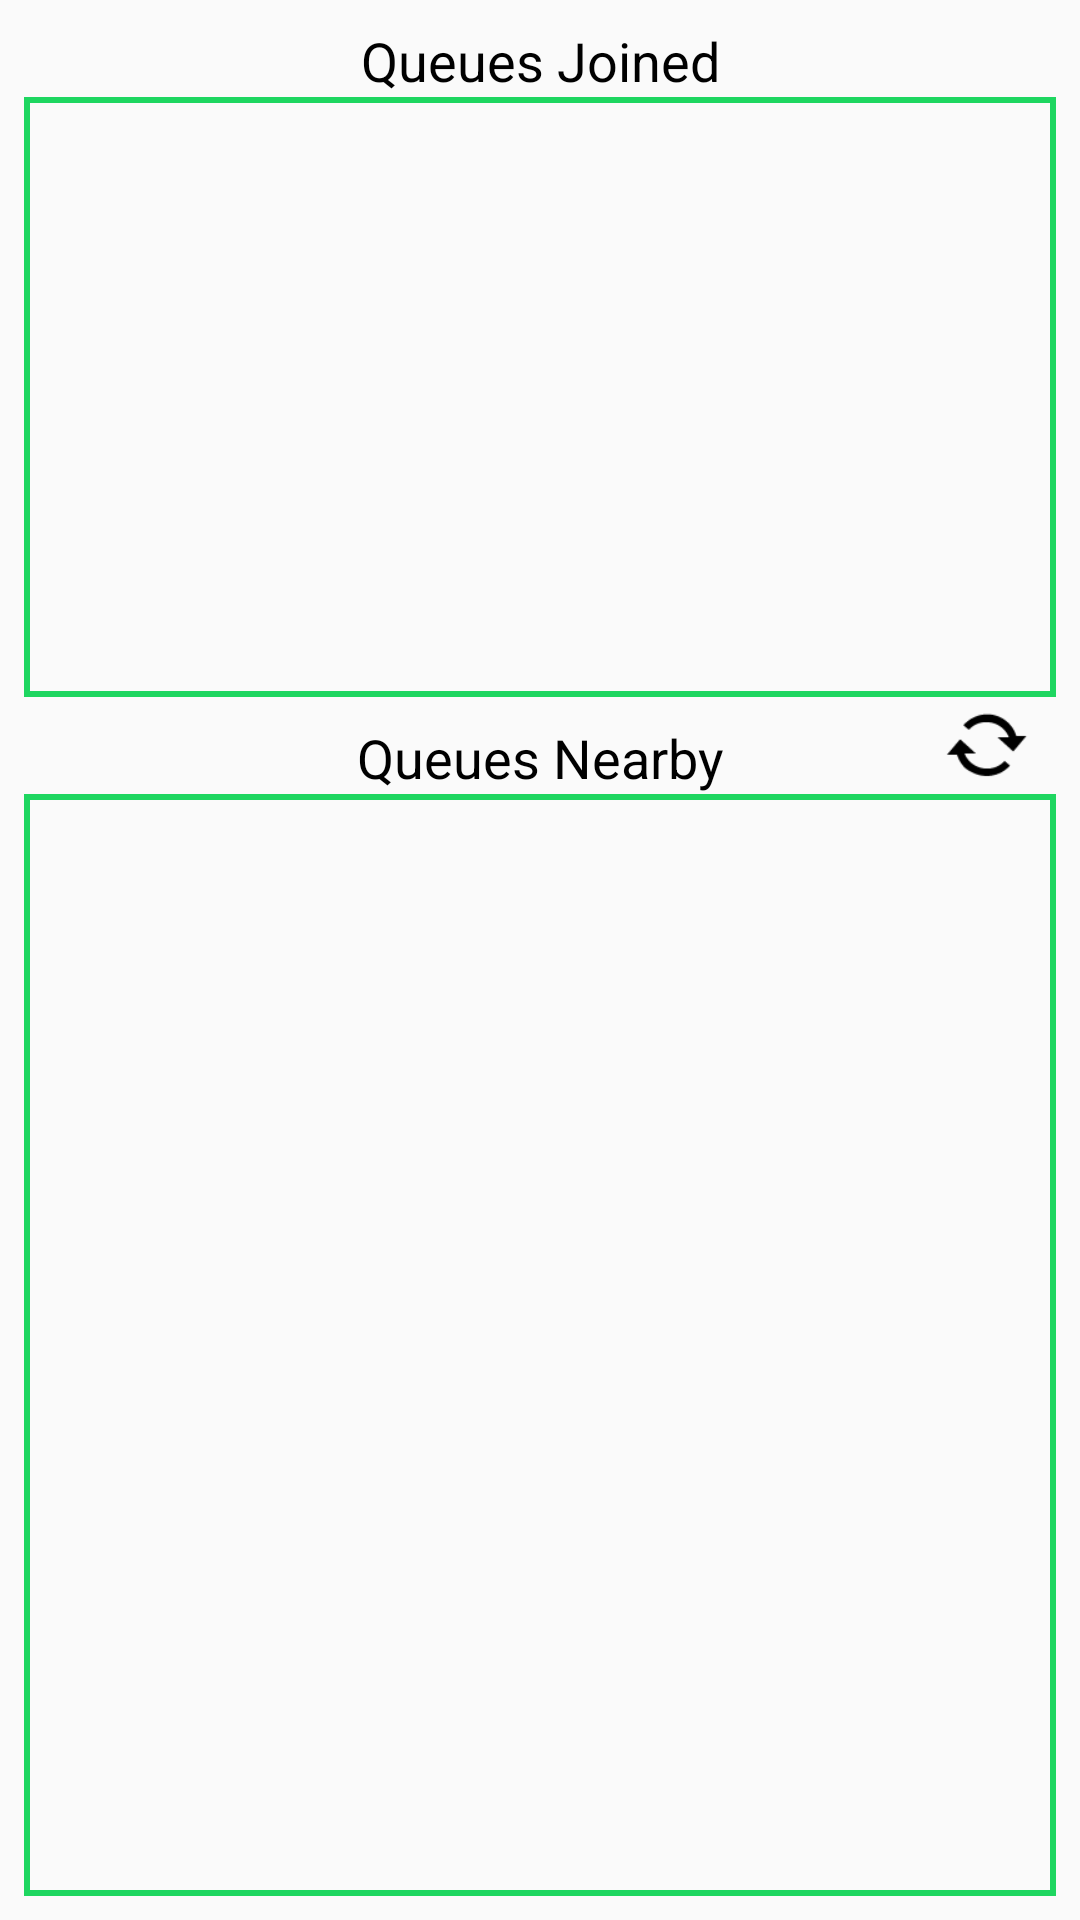

Icons on this 1080x1920 Android screen, each with its box as (x1, y1, x2, y2):
sync: (947, 713, 1027, 777)
